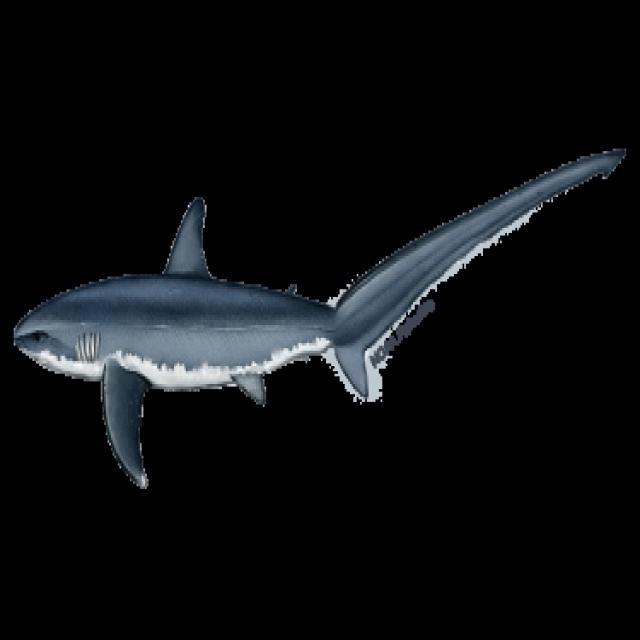gaviota: (14, 148, 623, 486)
